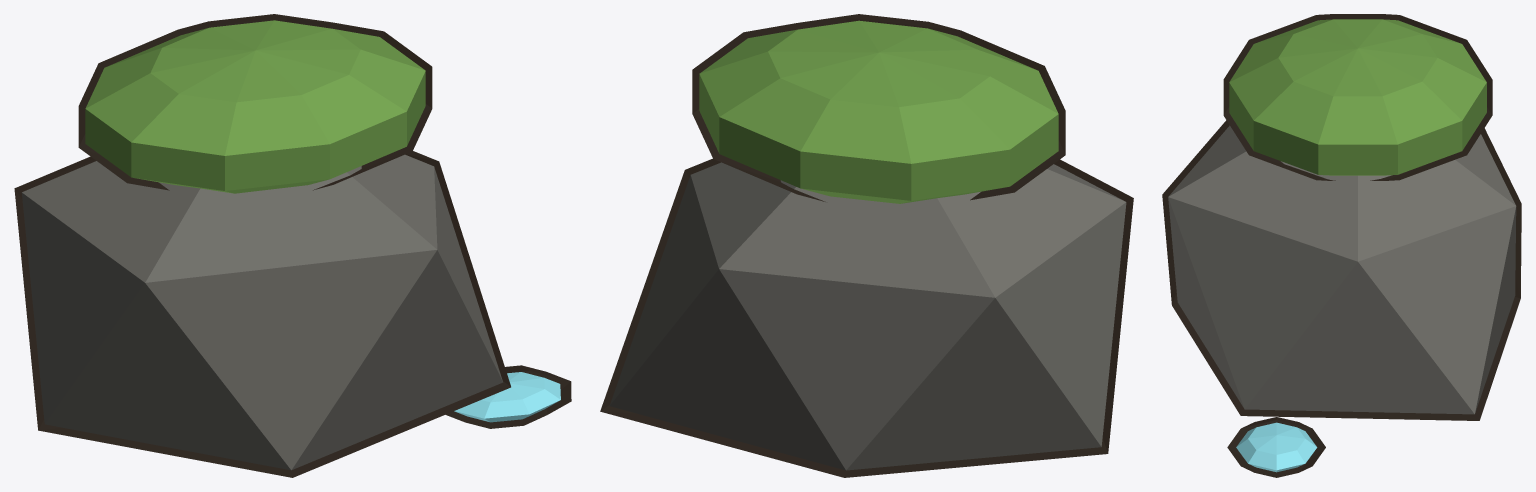
File: moisture_rock.glb
3 renders of one model, left to right at view 1: azimuth 30°, elevation 25°; view 2: azimuth 150°, elevation 25°; view 3: azimuth 270°, elevation 25°, orthographic. The views are drawn at different scales.
Visible parts, largest first — view 1: OBJ_moisture_rock; view 2: OBJ_moisture_rock; view 3: OBJ_moisture_rock.
Part boxes in pixels (x1,y1,x2,y2): OBJ_moisture_rock: [14, 14, 571, 477]; OBJ_moisture_rock: [600, 14, 1133, 477]; OBJ_moisture_rock: [1162, 14, 1521, 477].
Bounding box in the file's own units: 0.7165 × 0.5461 × 0.5308.
